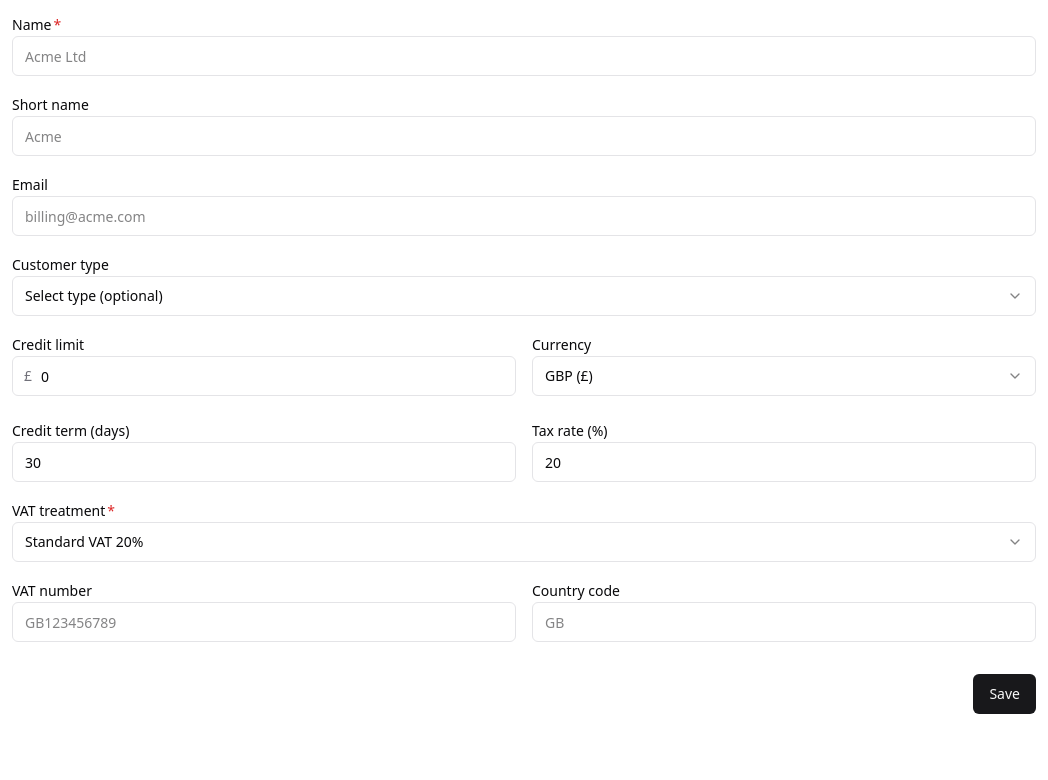
CustomerForm › shows validation error when name is empty
The image size is (1048, 780).
Click the button "Save". click: (1005,694)
box: [973,674,1036,714]
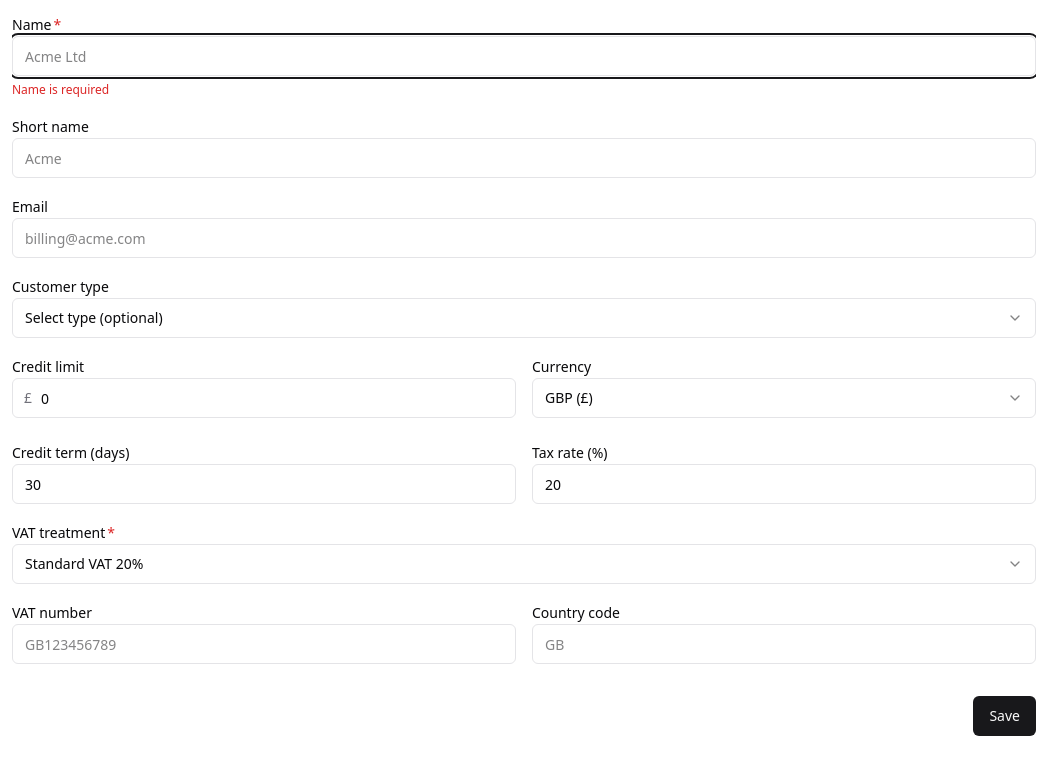
Result: the text "Name is required" is shown at [12,81,109,98]
